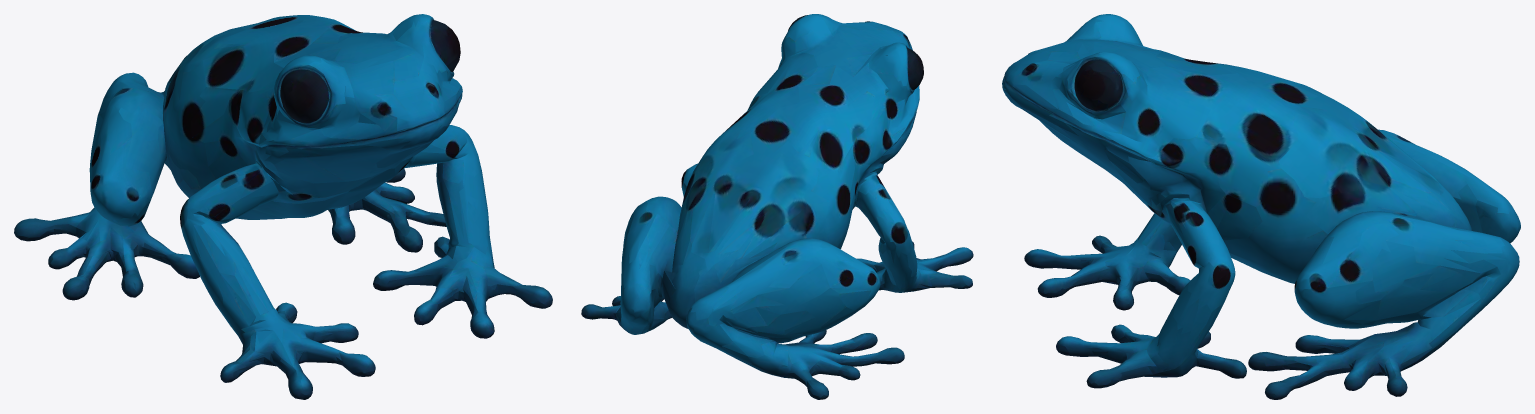
The model's file is animal_poison_dart_frog.glb.
3 renders of one model, left to right at view 1: azimuth 30°, elevation 25°; view 2: azimuth 150°, elevation 25°; view 3: azimuth 270°, elevation 25°, orthographic. The views are drawn at different scales.
Bounding box in the file's own units: 1.49 × 1.14 × 1.9.
1 material, 1 textured.
